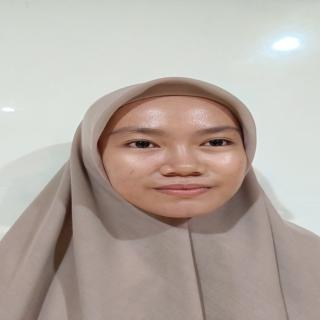Netral: (91, 87, 254, 223)
